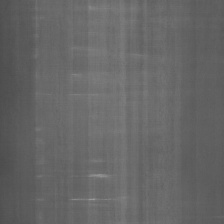waist_folding: (19, 3, 140, 222)
